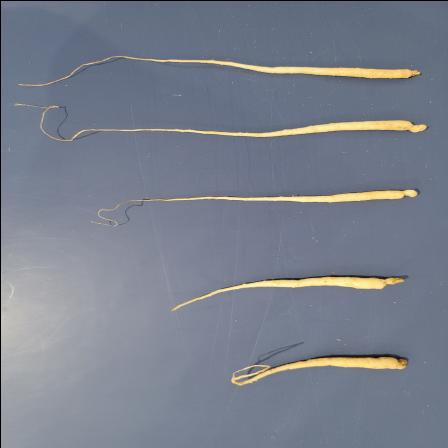Ginseng: (10, 100, 430, 141), (90, 185, 424, 228), (15, 52, 426, 86), (168, 271, 410, 314), (229, 349, 409, 387)
head: (378, 276, 404, 288), (402, 120, 427, 132), (397, 188, 418, 198)
